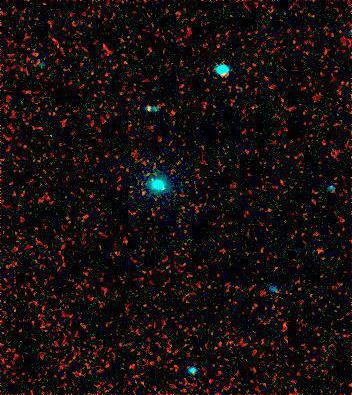star: (129, 179, 159, 209)
